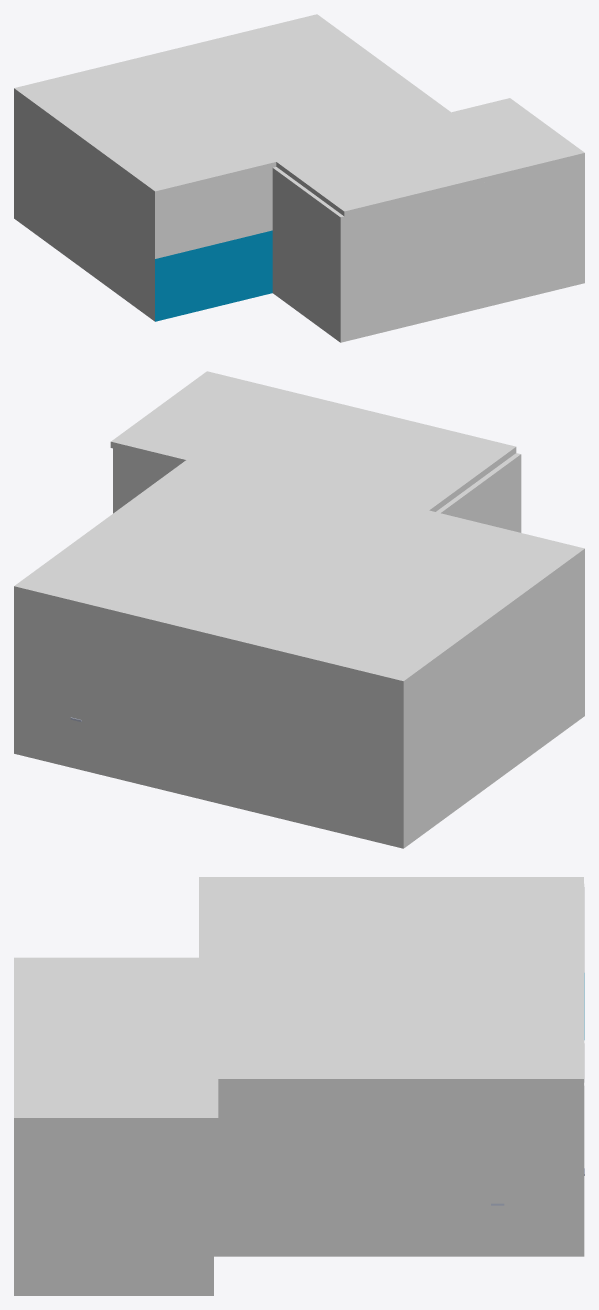
Rendered from RUANGAN FIX.glb.
3 views of the same model, one above another, from view 1: azimuth 30°, elevation 25°; view 2: azimuth 150°, elevation 25°; view 3: azimuth 270°, elevation 25° (orthographic). The views are drawn at different scales.
Visible parts, largest first — view 1: Cube.017, Cube.010, Cube.004, Cube.005, Cube.009; view 2: Cube.017, Cube.002, Cube.004, Cube.009, Cube.008, Cube.006, Cube.003, Cube.005; view 3: Cube.017, Cube.003, Cube.007, Cube.008, Cube.010.
Part boxes in pixels (bbox=[...]): Cube.017: bbox=[14, 14, 584, 216]; Cube.010: bbox=[337, 158, 584, 342]; Cube.004: bbox=[14, 93, 152, 319]; Cube.005: bbox=[152, 167, 272, 321]; Cube.009: bbox=[272, 167, 340, 340]; Cube.017: bbox=[14, 371, 584, 687]; Cube.002: bbox=[20, 594, 397, 847]; Cube.004: bbox=[397, 557, 581, 848]; Cube.009: bbox=[436, 455, 517, 531]; Cube.008: bbox=[113, 448, 179, 513]; Cube.006: bbox=[95, 612, 101, 774]; Cube.003: bbox=[14, 592, 19, 754]; Cube.005: bbox=[581, 555, 584, 717]; Cube.017: bbox=[14, 877, 583, 1124]; Cube.003: bbox=[214, 1083, 584, 1256]; Cube.007: bbox=[21, 1124, 206, 1295]; Cube.008: bbox=[206, 1124, 213, 1295]; Cube.010: bbox=[14, 1124, 21, 1295].
Size of the model in its own units: 30.8 by 10.6 by 30.85.
